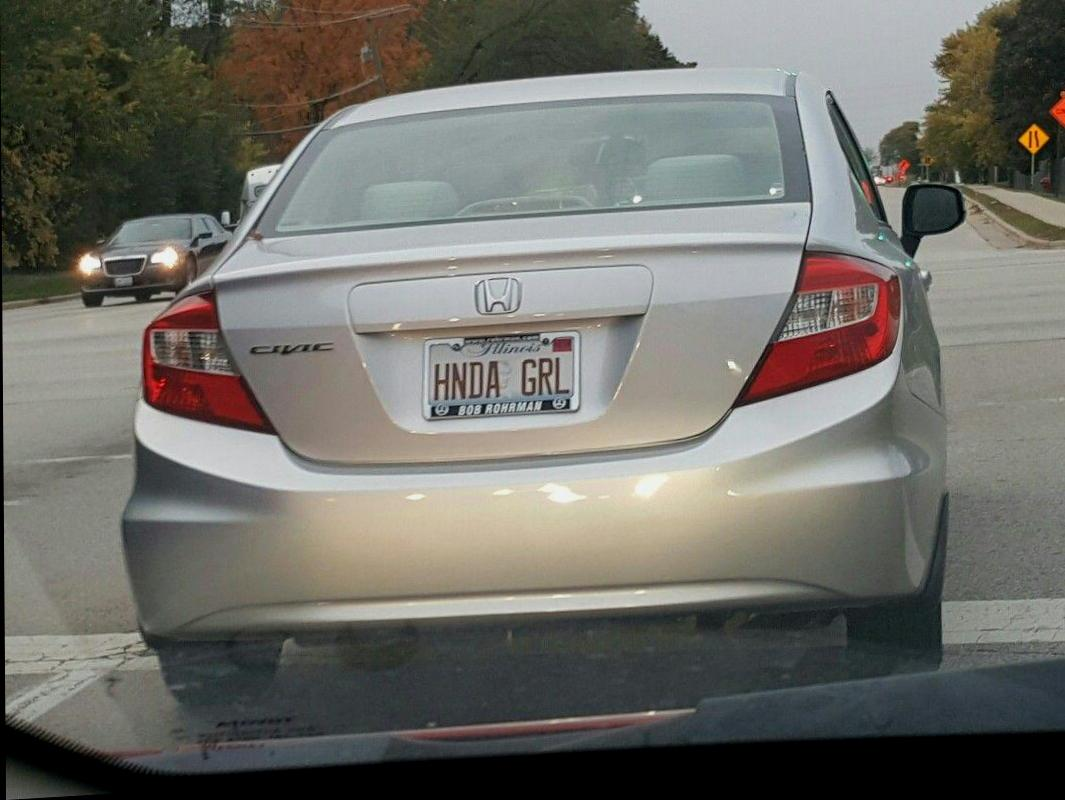License_Plate: (417, 319, 591, 439)
